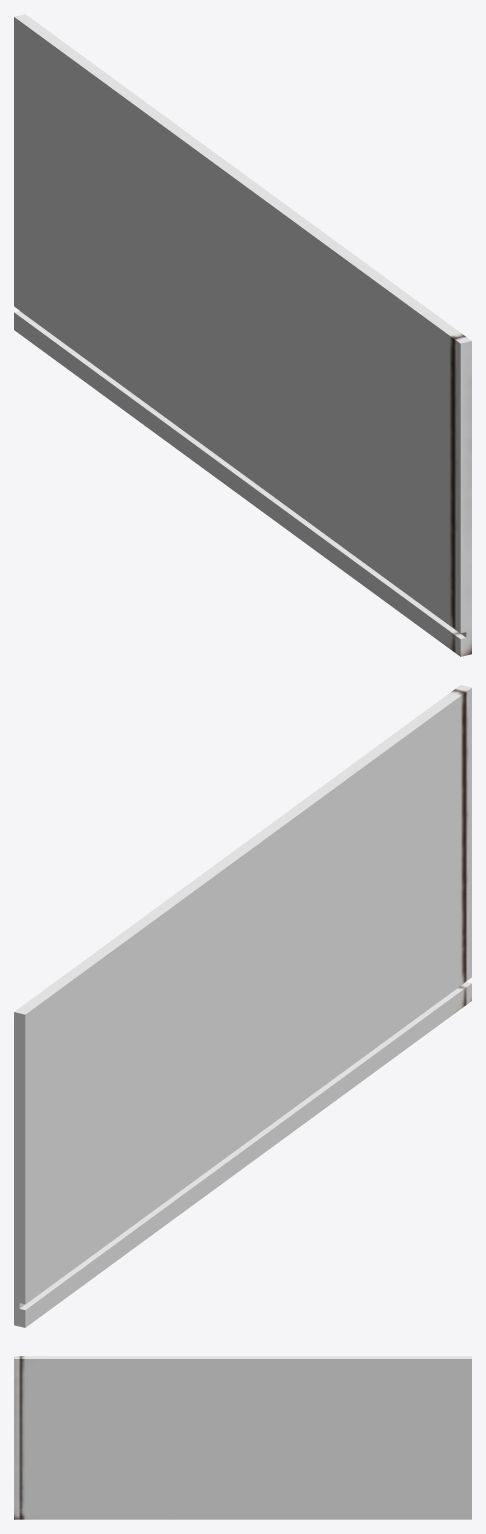
File: link_7__drawer_side-100.glb
The picture shows the model from 3 angles, top to bottom: view 1: azimuth 30°, elevation 25°; view 2: azimuth 150°, elevation 25°; view 3: azimuth 270°, elevation 25°; orthographic projection. The views are drawn at different scales.
Visible parts, largest first — view 1: world; view 2: world; view 3: world.
Boxes of the visible parts, <box> form: world: <box>14,14,471,656</box>; world: <box>14,685,471,1327</box>; world: <box>14,1356,471,1519</box>.
Bounding box in the file's own units: 0.00525 × 0.1392 × 0.3597.
Materials: 1 (1 with a texture image).
